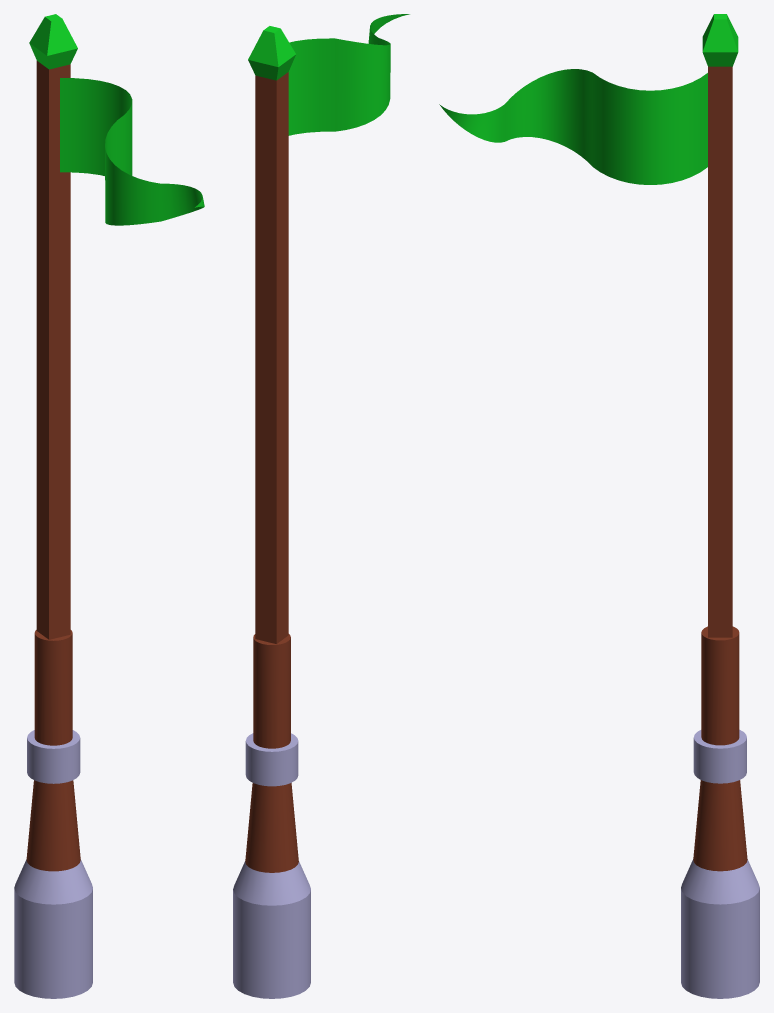
The model's file is FlagGreen.fbx.
The picture shows the model from 3 angles, left to right: view 1: azimuth 30°, elevation 25°; view 2: azimuth 150°, elevation 25°; view 3: azimuth 270°, elevation 25°; orthographic projection.
Parts seen in each view (by area): view 1: mergedBlocks; view 2: mergedBlocks; view 3: mergedBlocks.
Boxes of the visible parts, left/top/right/bottom form: mergedBlocks: left=14, top=14, right=204, bottom=998; mergedBlocks: left=233, top=14, right=409, bottom=998; mergedBlocks: left=439, top=14, right=759, bottom=998.
Bounding box in the file's own units: 19.22 × 248 × 74.82.
